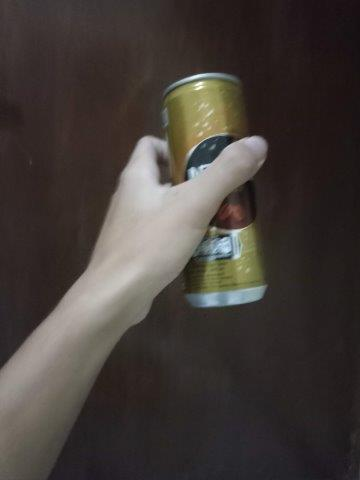kaleng: (162, 72, 266, 308)
